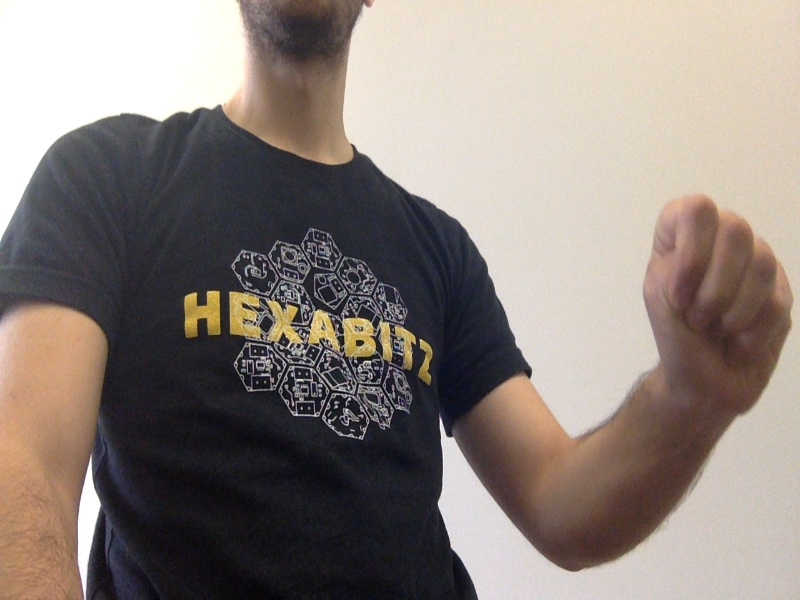0-hand: (644, 196, 791, 421)
